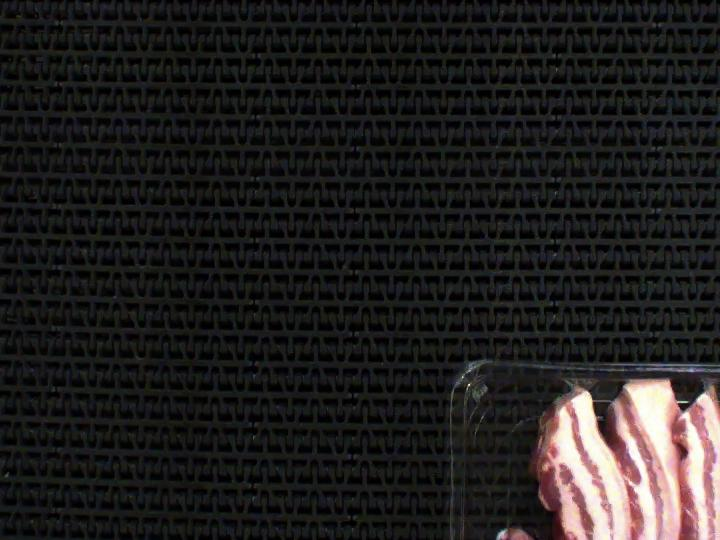packaging-error: (556, 376, 598, 396), (696, 369, 720, 398)
